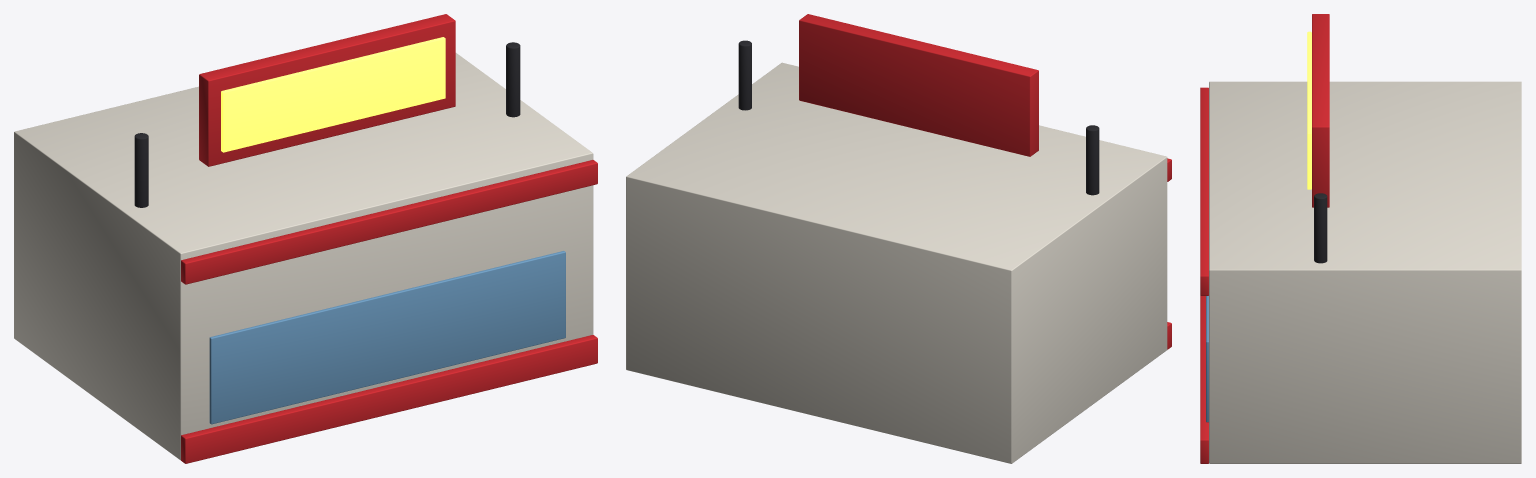
Rendered from rg_eua_3.glb.
3 renders of one model, left to right at view 1: azimuth 30°, elevation 25°; view 2: azimuth 150°, elevation 25°; view 3: azimuth 270°, elevation 25°, orthographic. The views are drawn at different scales.
Visible parts, largest first — view 1: rg_eua_3; view 2: rg_eua_3; view 3: rg_eua_3.
Part boxes in pixels (left/top/right/bottom): rg_eua_3: left=14, top=14, right=597, bottom=463; rg_eua_3: left=626, top=14, right=1171, bottom=463; rg_eua_3: left=1200, top=14, right=1521, bottom=463.
Size of the model in its own units: 10 by 7.4 by 7.2.
